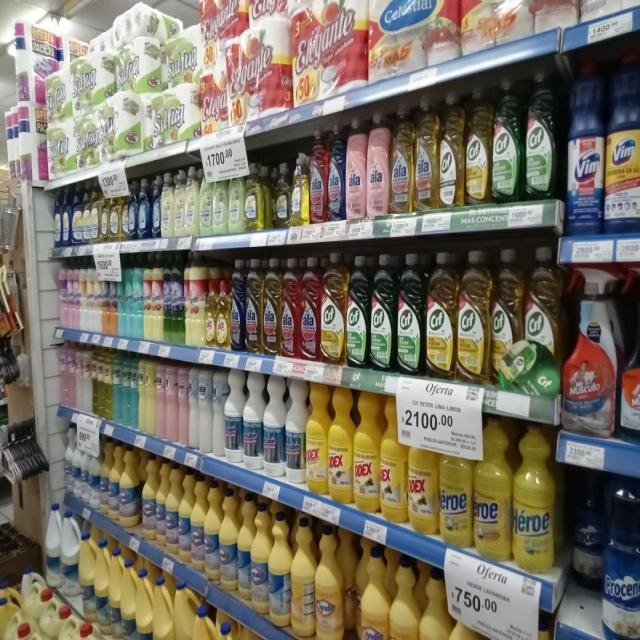ala_conc_amarillo: (415, 93, 439, 211), (390, 103, 414, 214), (263, 256, 280, 356), (245, 257, 262, 354)
ala_conc_azul: (328, 122, 345, 221), (230, 258, 244, 352)
ala_conc_rojo: (300, 255, 320, 361), (281, 256, 299, 359), (310, 127, 328, 223)
ala_crem_blanco: (198, 368, 212, 453), (212, 368, 225, 456), (188, 366, 198, 450)
ala_ultra_rosa: (366, 110, 389, 218), (346, 116, 366, 220)
cif_conc_bot_amarilla: (525, 244, 561, 394), (492, 246, 524, 391), (458, 248, 490, 384), (426, 250, 456, 380), (465, 84, 491, 206), (439, 91, 464, 208), (321, 252, 345, 366)
cif_conc_botella_verde: (524, 66, 558, 202), (492, 74, 522, 204), (397, 252, 424, 376), (370, 252, 396, 372), (346, 253, 369, 369)
magistral_con_amarillo: (245, 162, 266, 232), (290, 150, 309, 227), (270, 161, 290, 229), (108, 184, 120, 242), (120, 182, 128, 242), (100, 182, 108, 242)
magistral_con_azul: (138, 178, 151, 240), (71, 183, 82, 246), (82, 182, 90, 245), (152, 176, 160, 238), (62, 185, 70, 247), (129, 180, 137, 240)
magistral_con_crema: (228, 167, 244, 233)
